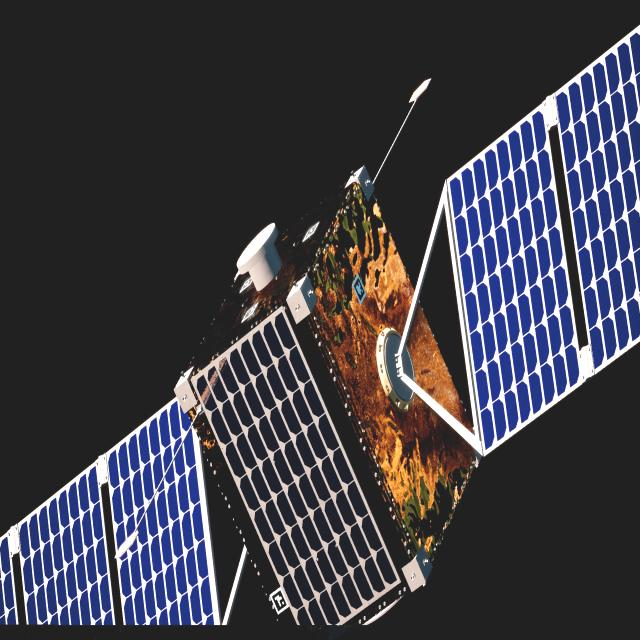satellite: (0, 27, 640, 640)
